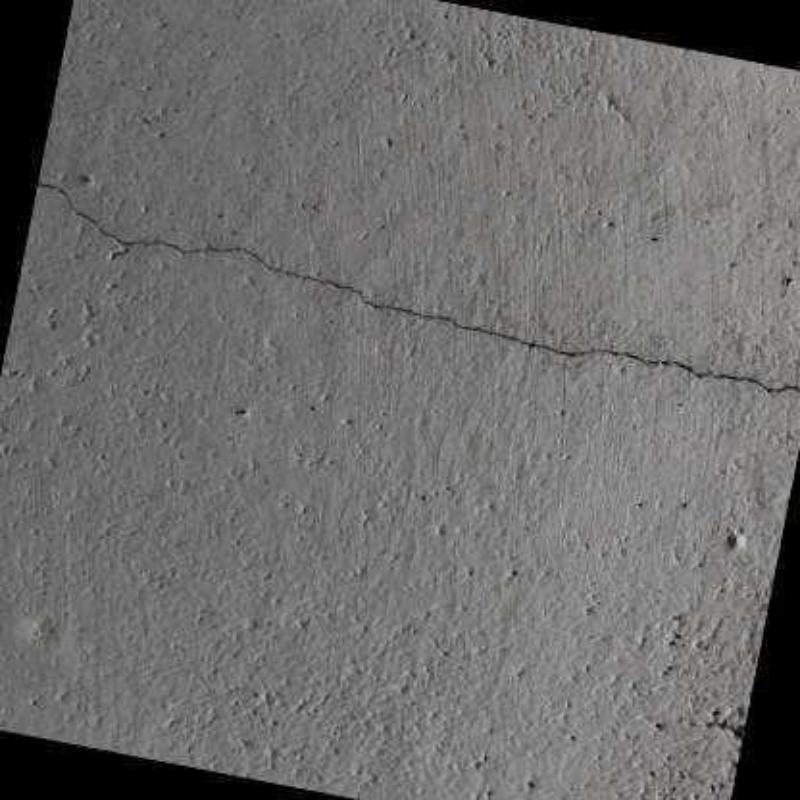pothole: (34, 178, 800, 395)
